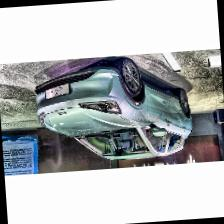EV: (33, 54, 197, 168)
